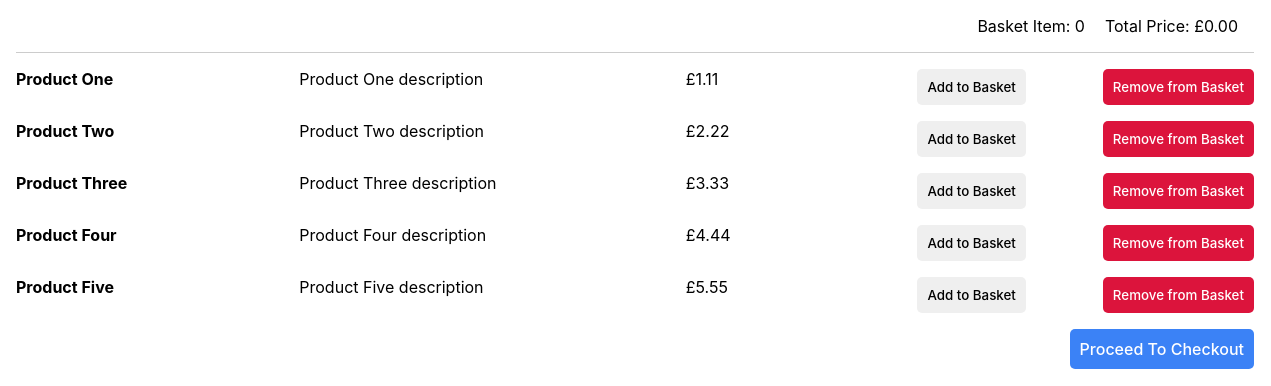
Test: Home Component › should be able to add multiple items to basket
This screenshot has width=1271, height=386.
Click the button with test id "addBtn-1": [972, 87] box [918, 69, 1026, 105]
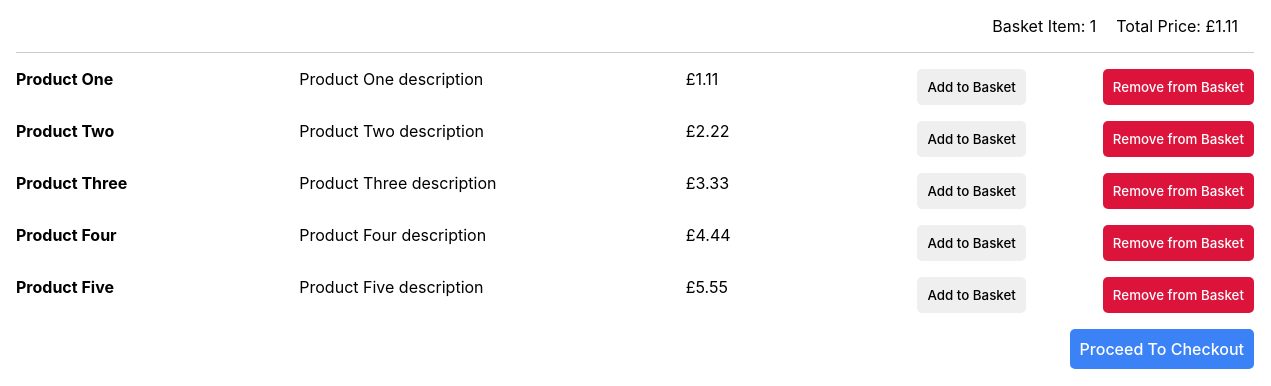
Click the button with test id "addBtn-2": [972, 139] box [918, 121, 1026, 157]
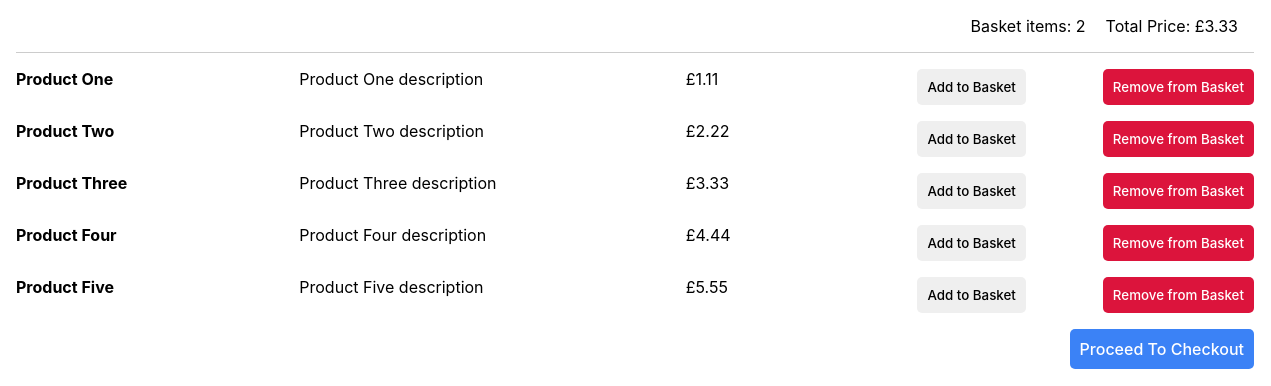
Click the button with test id "addBtn-2": [972, 139] box [918, 121, 1026, 157]
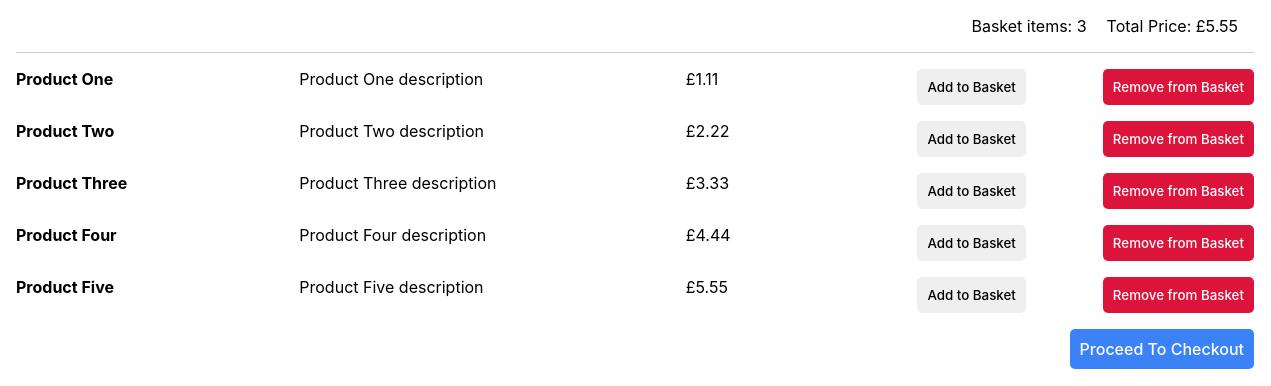
Click the button with test id "addBtn-3": [972, 191] box [918, 173, 1026, 209]
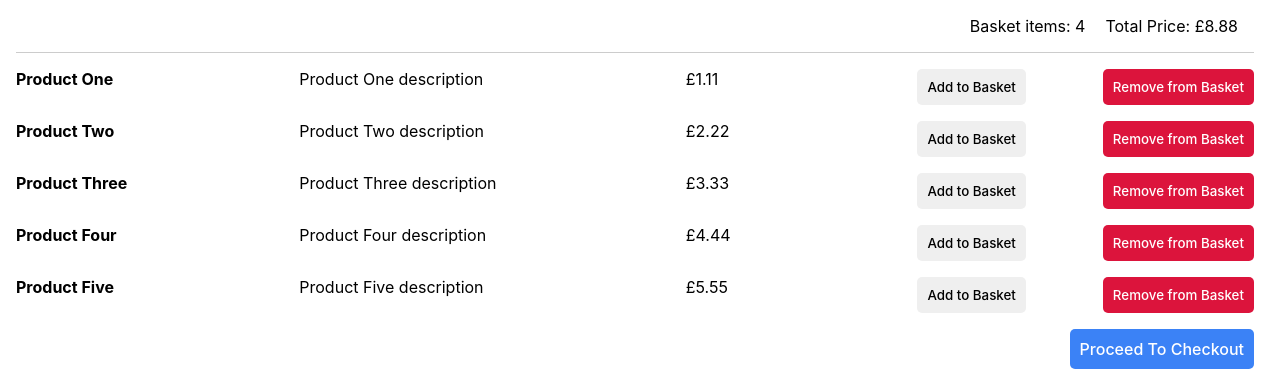
Result: the link "Basket items: 4" is shown at [970, 16, 1086, 36]
Click the button with test id "removeBtn-1": [1178, 87] box [1103, 69, 1254, 105]
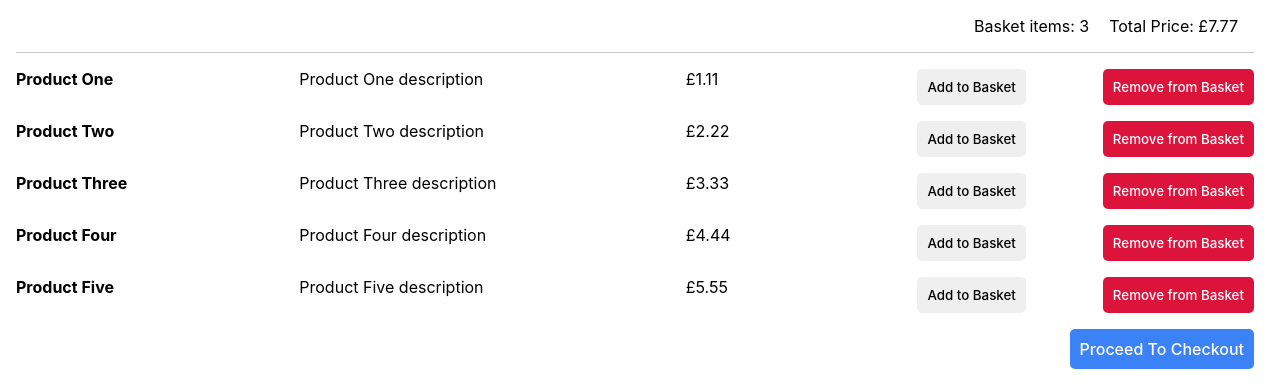
Click the button with test id "removeBtn-2": [1178, 139] box [1103, 121, 1254, 157]
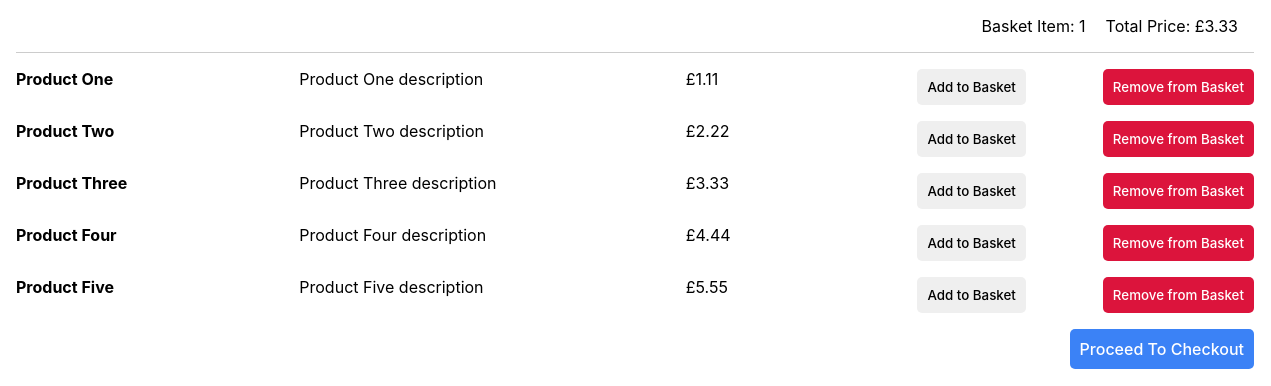
Result: the link "Basket Item: 1" is shown at [982, 16, 1086, 36]
